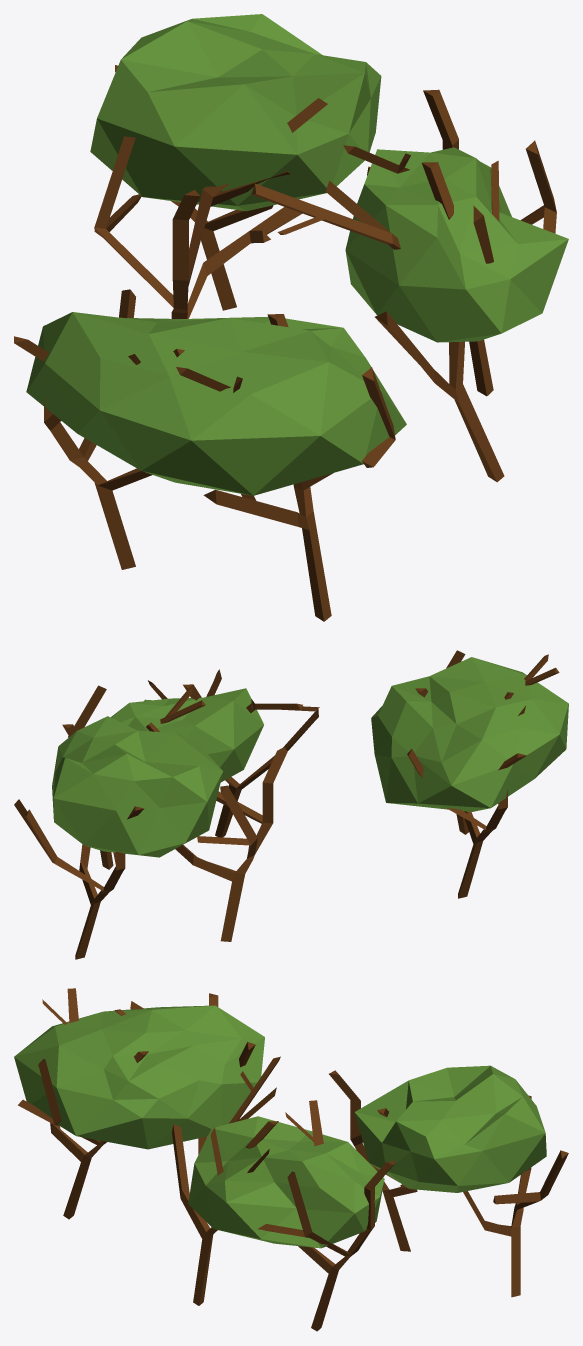
File: keskmine poosas surev.fbx
3 renders of one model, top to bottom at view 1: azimuth 30°, elevation 25°; view 2: azimuth 150°, elevation 25°; view 3: azimuth 270°, elevation 25°, orthographic. The views are drawn at different scales.
Visible parts, largest first — view 1: keskminesurev; view 2: keskminesurev; view 3: keskminesurev.
Boxes of the visible parts, x1,y1,x2,y2 form: keskminesurev: [14, 14, 568, 621]; keskminesurev: [14, 650, 568, 959]; keskminesurev: [14, 988, 568, 1331].
Bounding box in the file's own units: 225 × 109 × 269.
